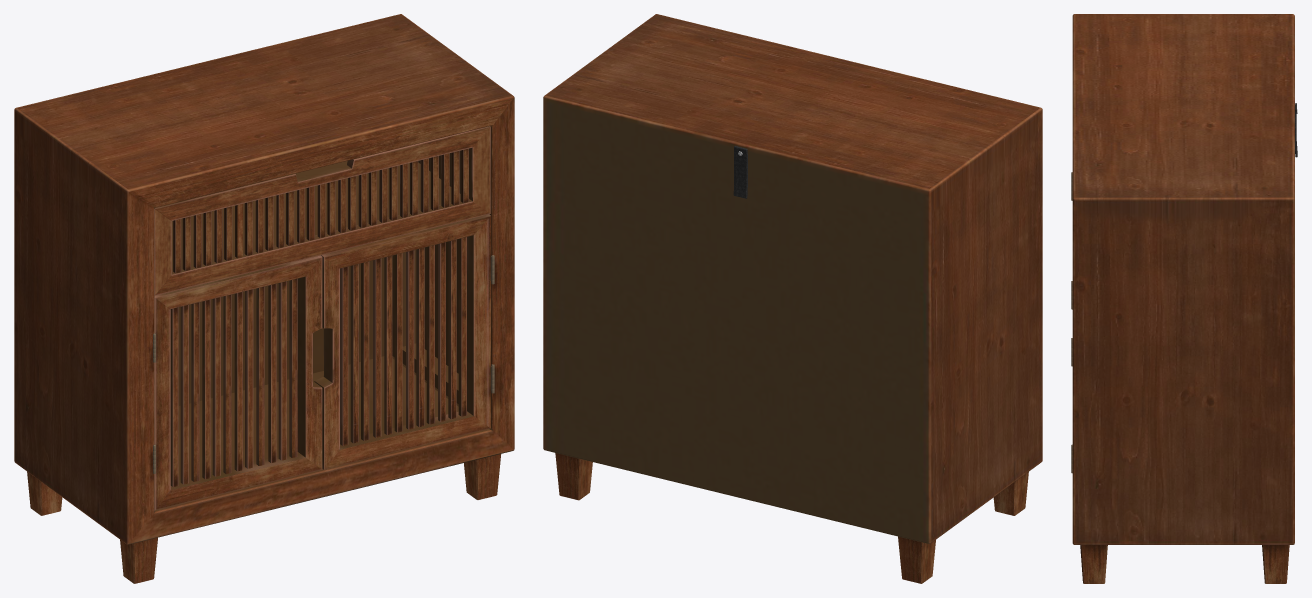
The model's file is cabinet_B074KLJQKV.glb.
The picture shows the model from 3 angles, left to right: view 1: azimuth 30°, elevation 25°; view 2: azimuth 150°, elevation 25°; view 3: azimuth 270°, elevation 25°; orthographic projection. The views are drawn at different scales.
Parts seen in each view (by area): view 1: RootNode; view 2: RootNode; view 3: RootNode.
Part boxes in pixels (left/top/right/bottom): RootNode: left=14, top=14, right=514, bottom=583; RootNode: left=543, top=14, right=1042, bottom=583; RootNode: left=1071, top=14, right=1297, bottom=583.
Bounding box in the file's own units: 0.7959 × 0.7854 × 0.4116.
Materials: 1 (1 with a texture image).
